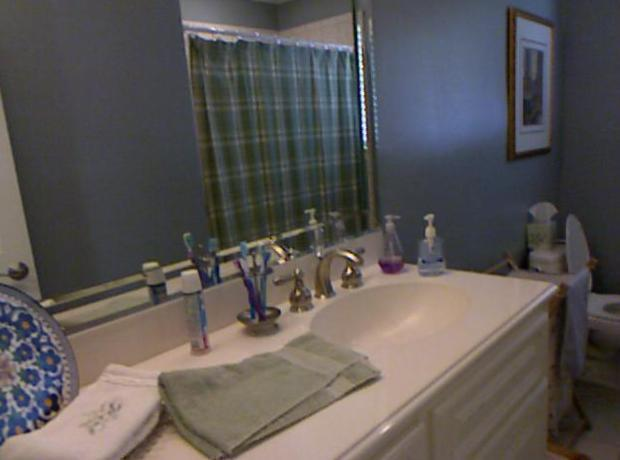Lavamanos: (264, 246, 476, 375)
Sanitario: (528, 226, 617, 392)
